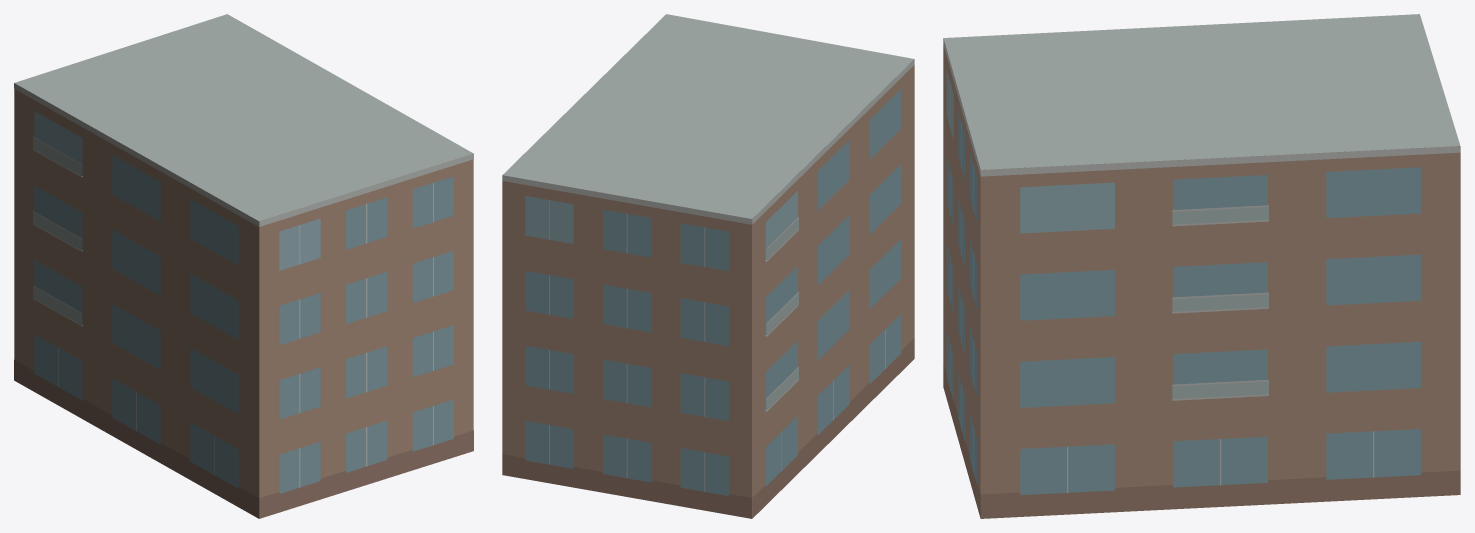
Rendered from survey-upis-32944148.glb.
3 renders of one model, left to right at view 1: azimuth 30°, elevation 25°; view 2: azimuth 150°, elevation 25°; view 3: azimuth 270°, elevation 25°, orthographic. The views are drawn at different scales.
Visible parts, largest first — view 1: survey-upis-32944148.tmp; view 2: survey-upis-32944148.tmp; view 3: survey-upis-32944148.tmp.
Part boxes in pixels (x1=…): survey-upis-32944148.tmp: x1=14, y1=14, x2=473, y2=518; survey-upis-32944148.tmp: x1=502, y1=14, x2=914, y2=518; survey-upis-32944148.tmp: x1=943, y1=14, x2=1460, y2=518.
Bounding box in the file's own units: 12.28 × 12.8 × 17.2.
